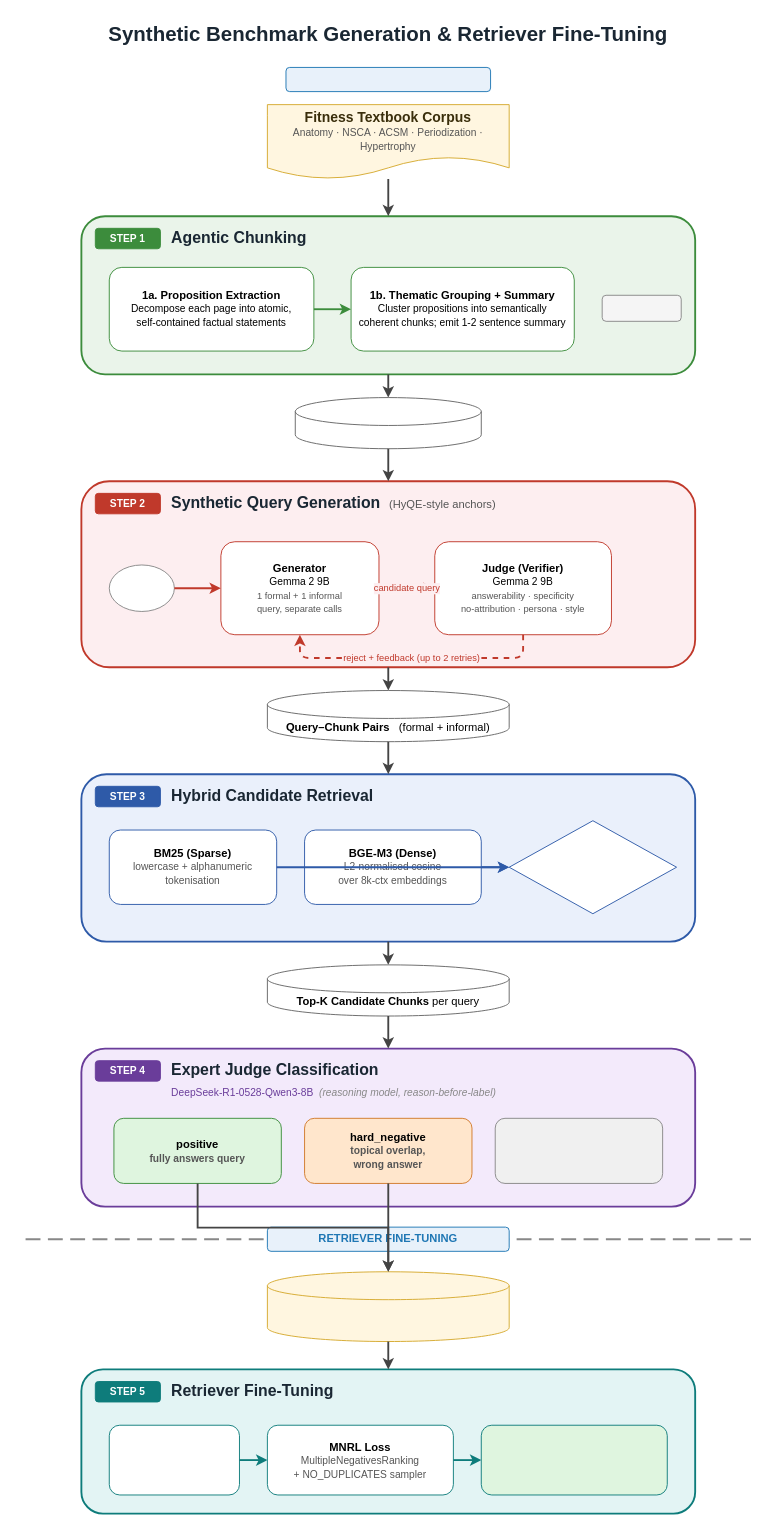
The diagram is 776 pixels wide and 1530 high, and some of its shapes have lost their labels. The shapes that lost their labels are listed below. From the top down, each one's box as (x1, y1, x2, y2) in pixels, then its label:
(285, 66, 491, 92): BENCHMARK CREATION
(601, 294, 681, 321): Gemma 2 9B
(294, 397, 481, 449): Chunks { id, content, summary }
(108, 564, 174, 611): chunk
(508, 820, 677, 914): RRF Fusion k=60, top-5 source chunk excluded
(494, 1117, 663, 1183): irrelevant off-topic — discarded
(266, 1271, 509, 1342): Triplet Benchmark (anchor=query, positive, hard_negative)
(108, 1424, 239, 1495): BGE-M3 base retriever
(480, 1424, 667, 1495): Fine-Tuned Retriever domain-adapted chunk embeddings
